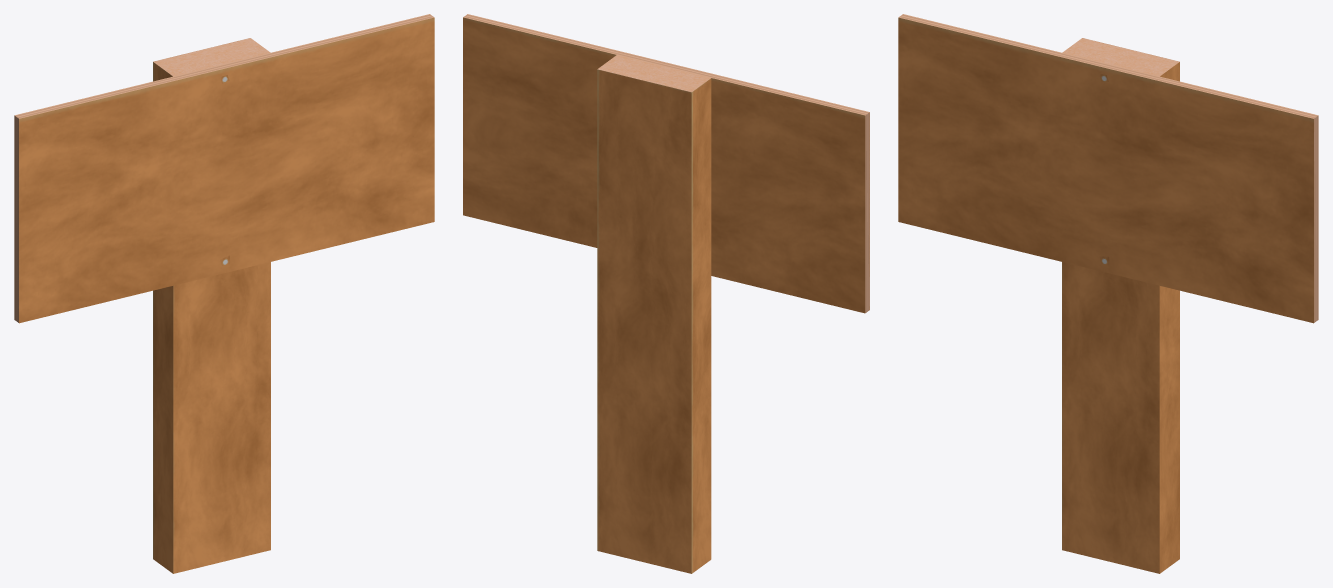
Rendered from Sign_1.fbx.
The picture shows the model from 3 angles, left to right: view 1: azimuth 30°, elevation 25°; view 2: azimuth 150°, elevation 25°; view 3: azimuth 330°, elevation 25°; orthographic projection. The views are drawn at different scales.
Visible parts, largest first — view 1: Sign_1; view 2: Sign_1; view 3: Sign_1.
Boxes of the visible parts, box(x1,y1,x2,y2) form: Sign_1: box(14, 14, 434, 573); Sign_1: box(463, 14, 869, 573); Sign_1: box(898, 14, 1318, 573).
Bounding box in the file's own units: 0.673 × 0.7699 × 0.0705.
